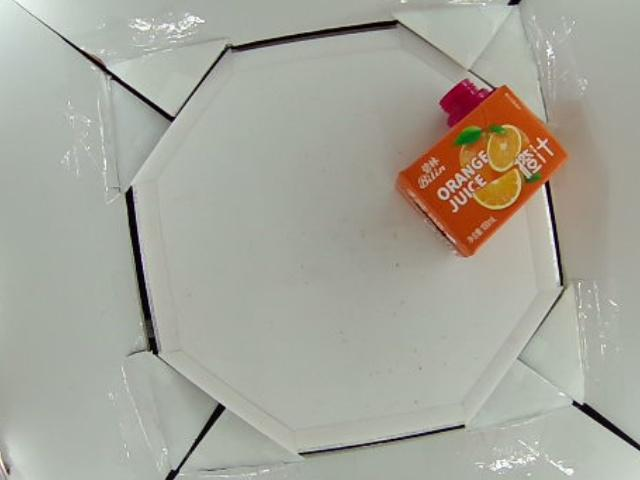Bottle: (391, 75, 571, 261)
